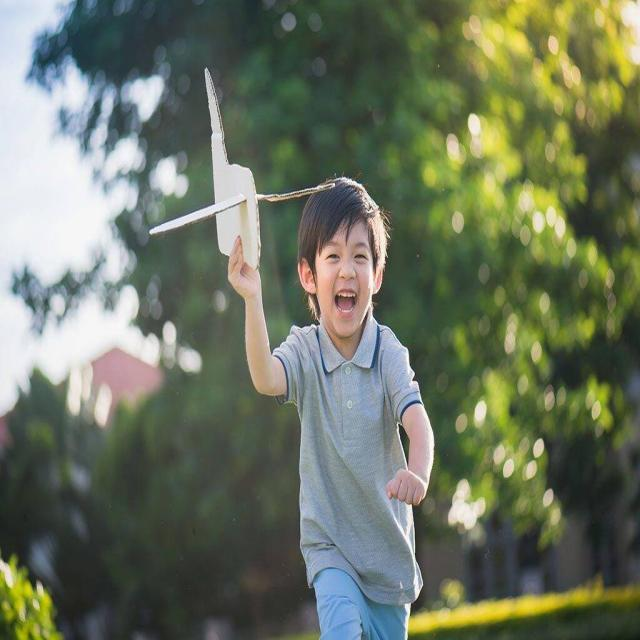non-dog: (227, 176, 438, 640)
